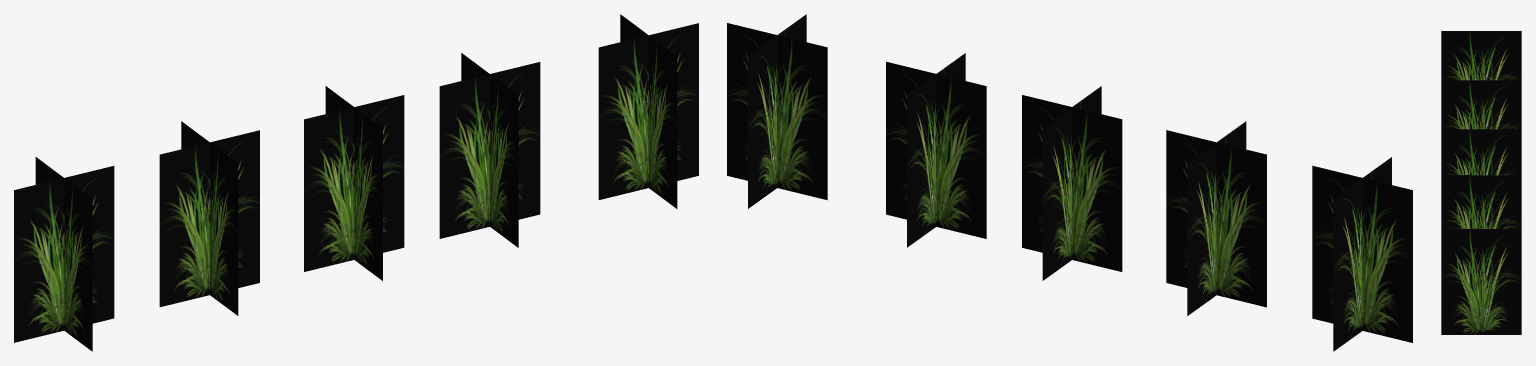
The model's file is grass_lowpoly.glb.
The picture shows the model from 3 angles, left to right: view 1: azimuth 30°, elevation 25°; view 2: azimuth 150°, elevation 25°; view 3: azimuth 270°, elevation 25°; orthographic projection. The views are drawn at different scales.
Parts seen in each view (by area): view 1: farm05.004_0; view 2: farm05.004_0; view 3: farm05.004_0.
Part boxes in pixels (x1,y1,x2,y2): farm05.004_0: (14, 14, 698, 351); farm05.004_0: (727, 14, 1412, 351); farm05.004_0: (1441, 31, 1521, 334).
Bounding box in the file's own units: 47.85 × 10.2 × 7.01.
1 material, 1 textured.
